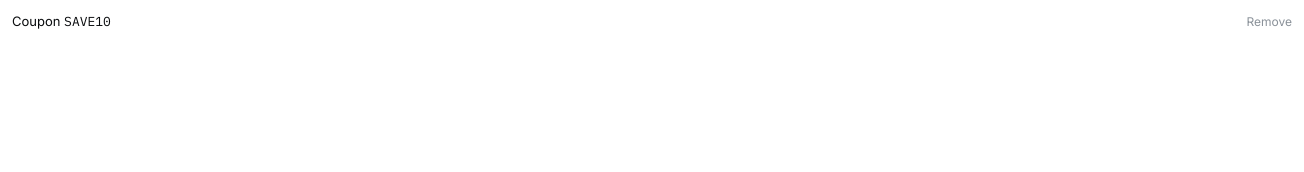
it: CouponForm › actually displays an error when removal fails — a real bug caught while writing this test: the applied-coupon view previously had no rendering of the local erro
Click the button "Remove". click: (1269, 22)
box: [1246,13,1292,31]
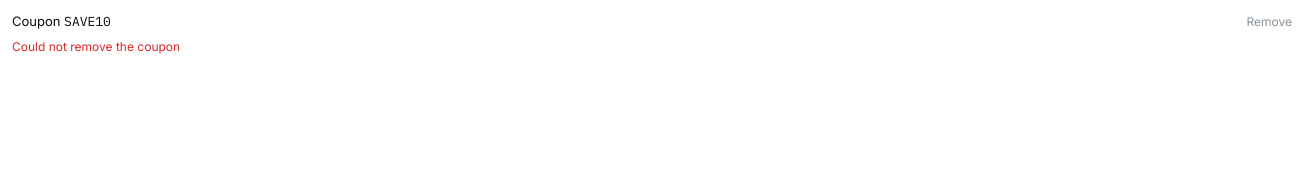
Result: the text "Could not remove the coupon" is shown at [12,38,180,54]
